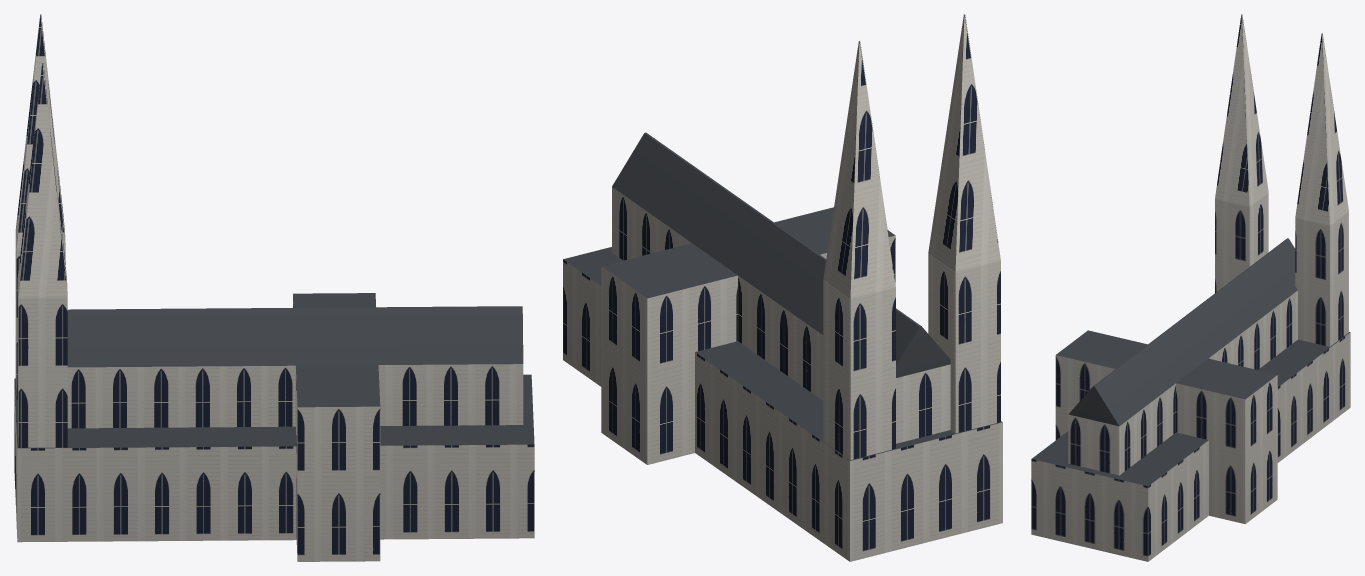
File: stpat.glb
3 views of the same model, side by side, from view 1: azimuth 30°, elevation 25°; view 2: azimuth 150°, elevation 25°; view 3: azimuth 270°, elevation 25° (orthographic). The views are drawn at different scales.
Visible parts, largest first — view 1: stpat; view 2: stpat; view 3: stpat.
Boxes of the visible parts, x1,y1,x2,y2 form: stpat: (14,14,534,561); stpat: (563,14,1002,561); stpat: (1031,14,1350,561).
Size of the model in its own units: 103 by 100 by 76.47.
Materials: 16 (12 with a texture image).
